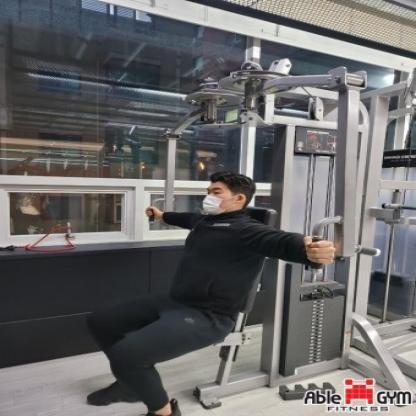chest fly machine: (43, 53, 416, 416)
